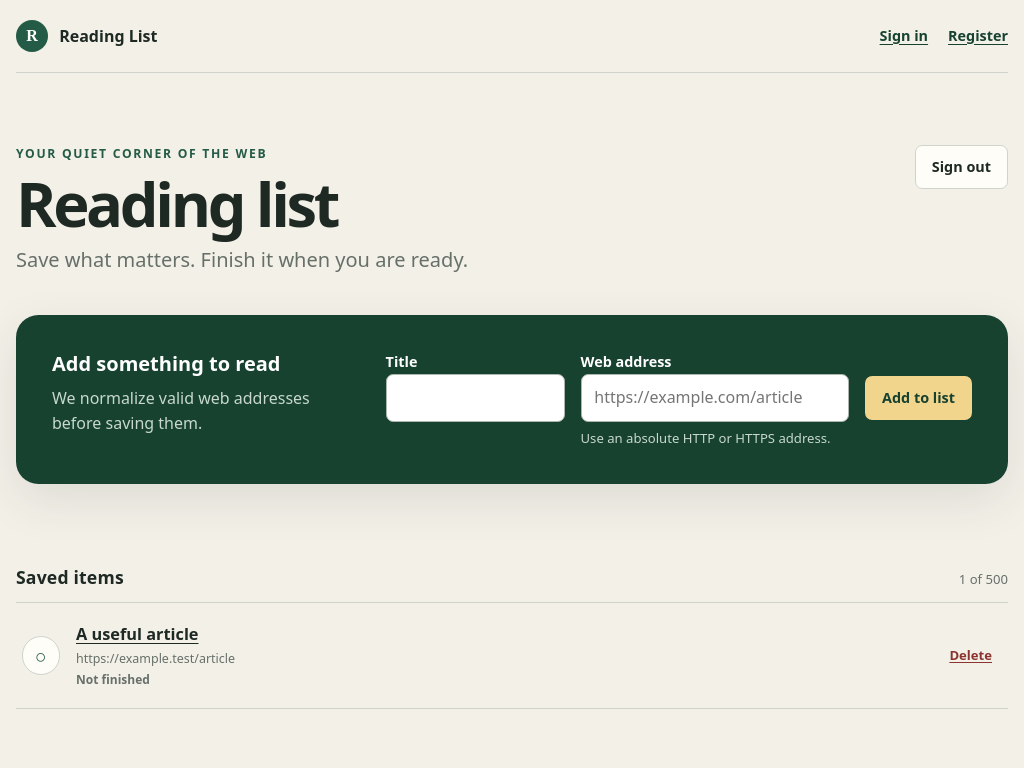
Test: identity transitions › removes reading-list cache data and navigates to login on logout
This screenshot has width=1024, height=768.
Check: the heading "Reading list" is shown, box x1=16 y1=160 x2=337 y2=244
What coordinates should you click on to do the following:
click the button "Sign out"
I would click on:
 (961, 167)
Its box is x1=915 y1=145 x2=1008 y2=189.
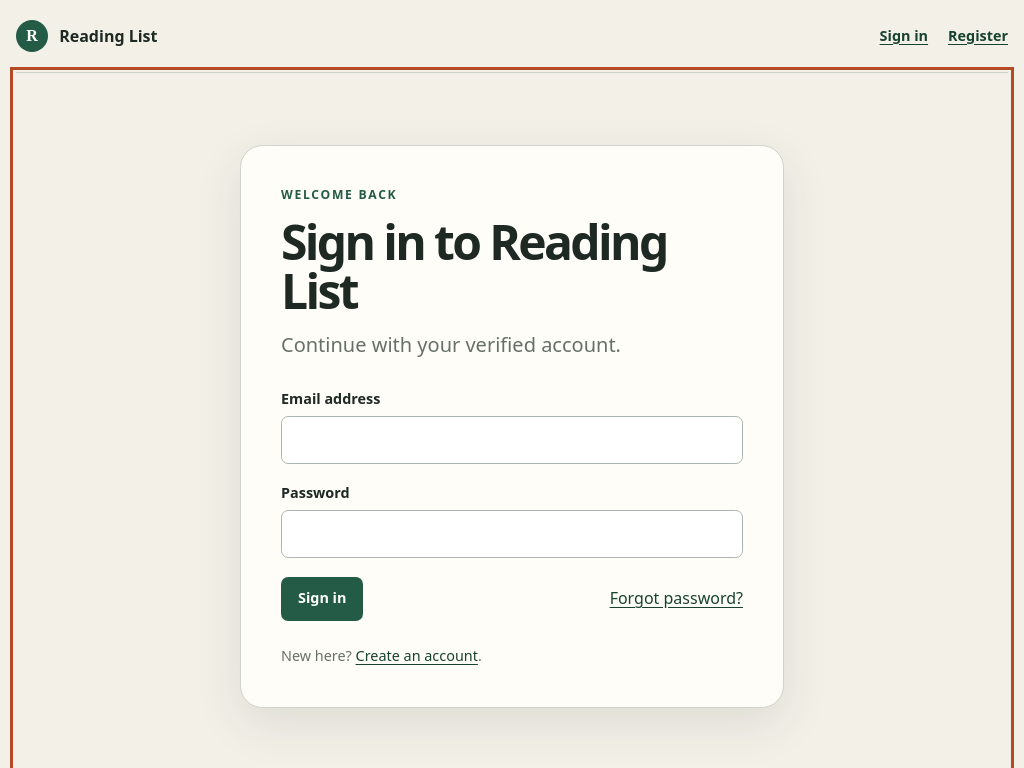
Check: the heading "Sign in to Reading List" is shown, box x1=281 y1=208 x2=667 y2=323
